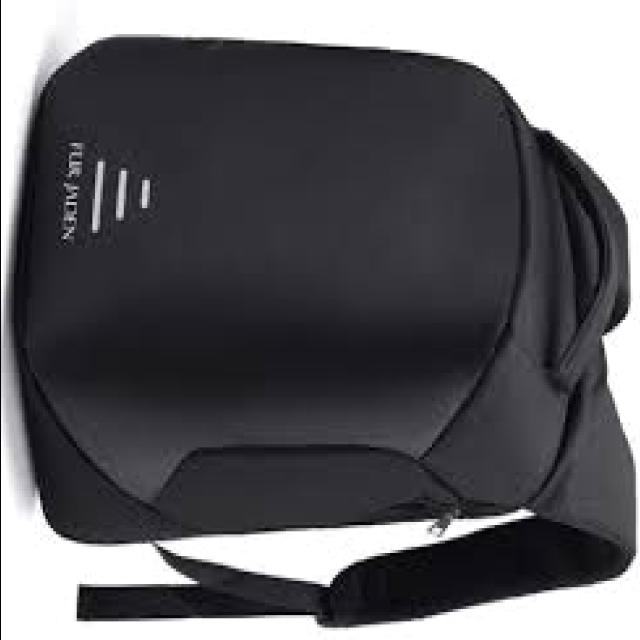backpack: (14, 33, 640, 629)
